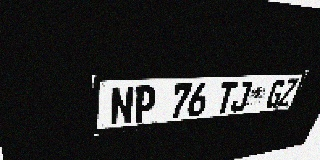6: (186, 83, 211, 117)
7: (168, 83, 193, 119)
G: (264, 79, 287, 109)
J: (229, 81, 253, 113)
N: (110, 86, 134, 126)
P: (133, 85, 157, 123)
T: (214, 81, 238, 114)
Z: (276, 79, 299, 107)
